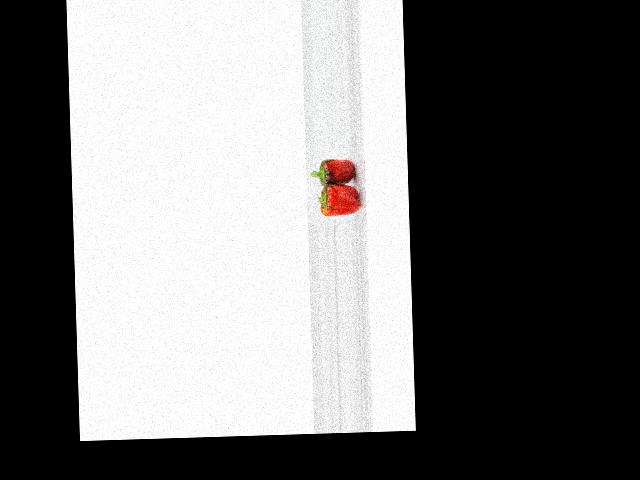bell_pepper: (314, 184, 361, 221)
